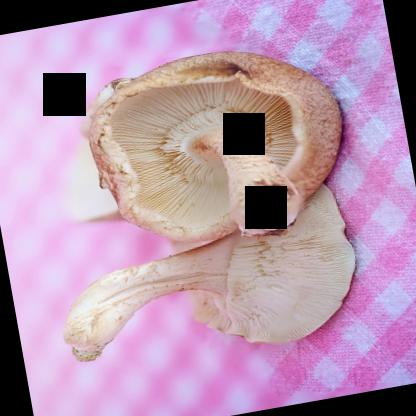mushroom: (70, 28, 368, 260), (41, 168, 370, 378)
